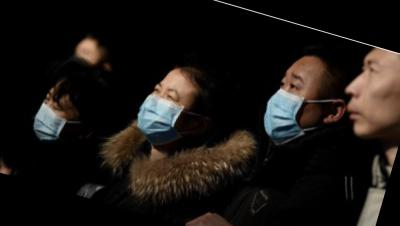with_mask: (257, 67, 335, 153), (133, 77, 194, 143), (30, 94, 78, 146)
without_mask: (333, 53, 400, 145)
